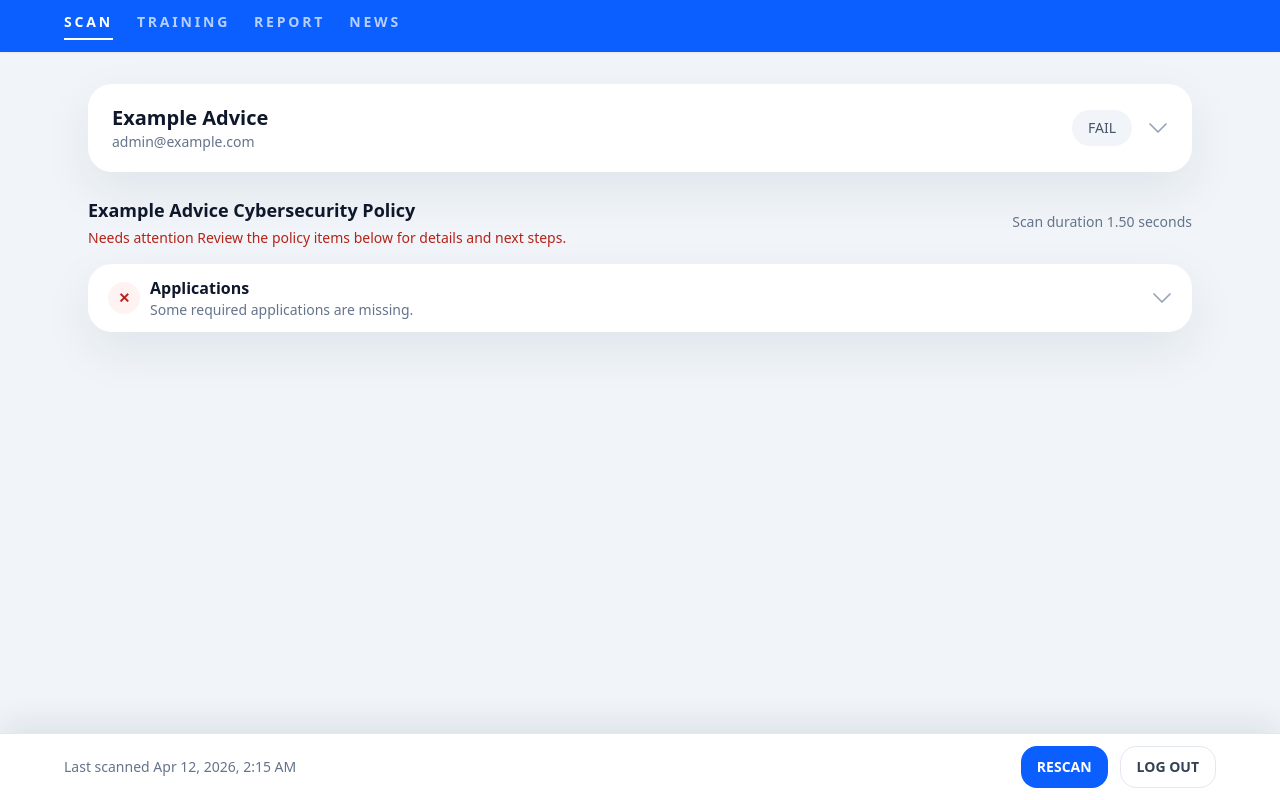
Test: groups missing required application categories in the Applications details
Click the button "✕ Applications Some required applications are missing." at point(124, 298), box [88, 264, 1192, 332]
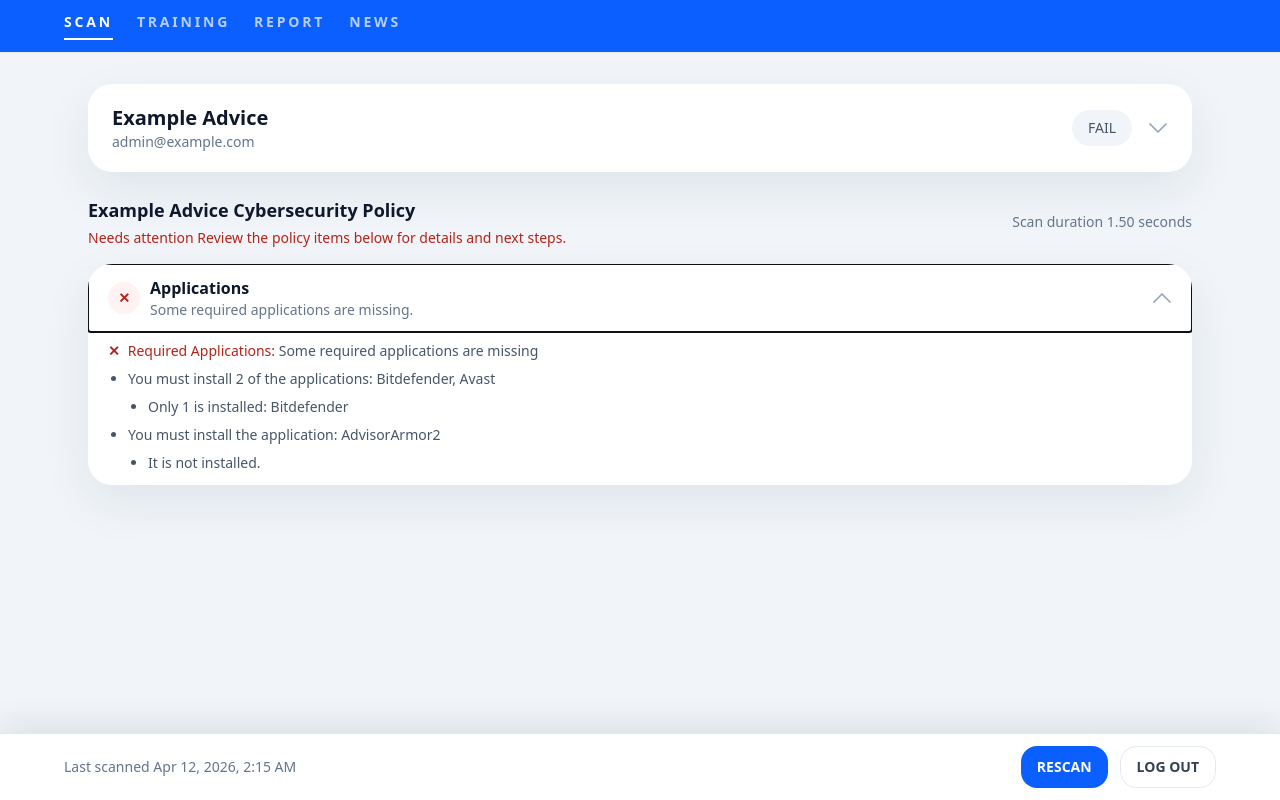
Check: the text "You must install 2 of the applications: Bitdefender, Avast" is shown, box [128, 369, 495, 388]
Check: the text "Only 1 is installed: Bitdefender" is shown, box [148, 397, 348, 416]
Check: the text "You must install the application: AdvisorArmor2" is shown, box [128, 425, 440, 444]
